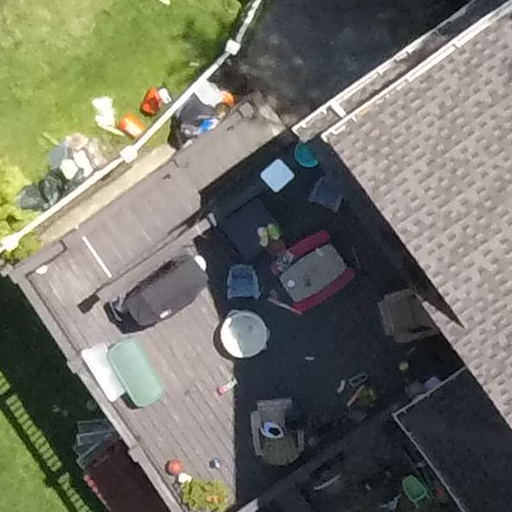bucket: (109, 110, 150, 140)
container: (102, 340, 165, 409), (76, 343, 121, 402), (288, 141, 328, 171)
